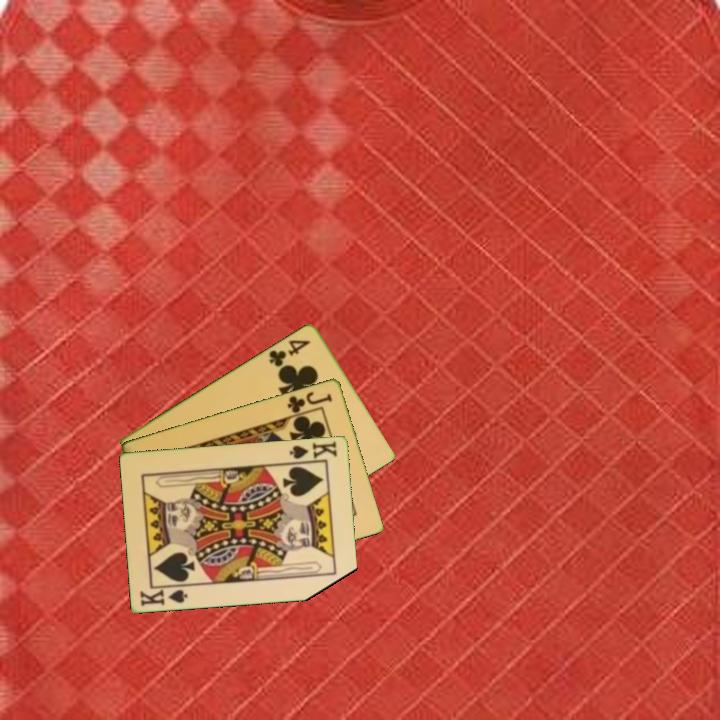4c: (265, 336, 313, 370)
Jc: (284, 388, 335, 416)
Ks: (286, 437, 340, 465), (137, 582, 192, 609)
